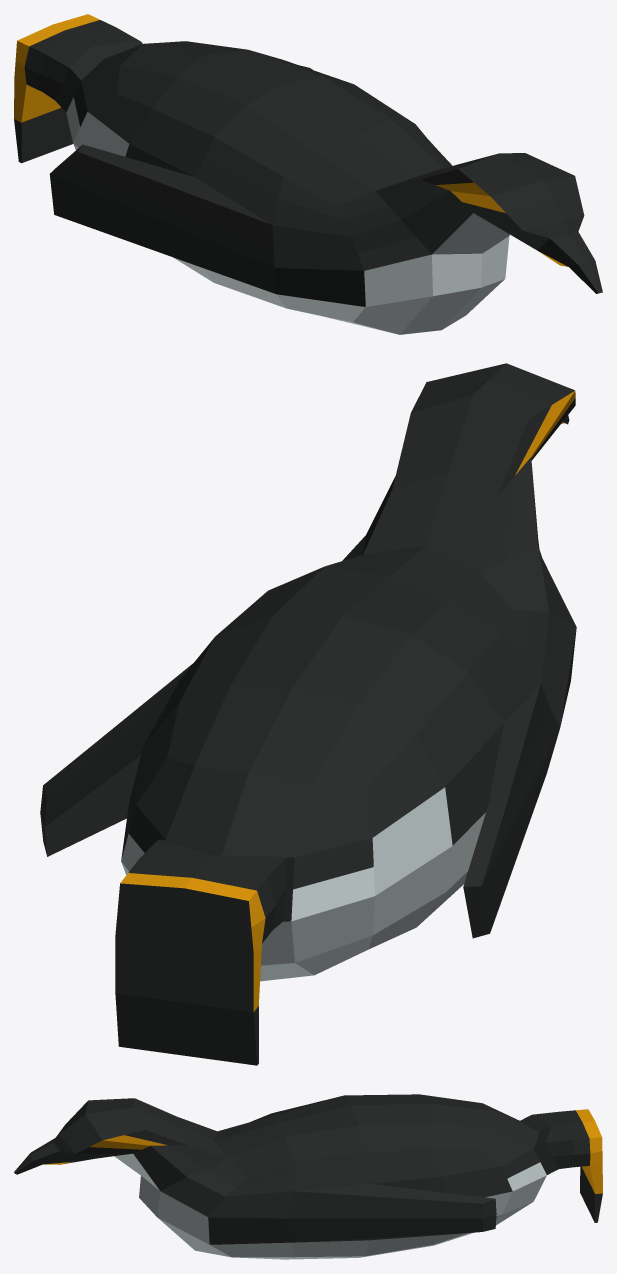
File: downpenguin.gltf
The picture shows the model from 3 angles, top to bottom: view 1: azimuth 30°, elevation 25°; view 2: azimuth 150°, elevation 25°; view 3: azimuth 270°, elevation 25°; orthographic projection. The views are drawn at different scales.
Visible parts, largest first — view 1: Cube.022; view 2: Cube.022; view 3: Cube.022.
Part boxes in pixels (x1,y1,x2,y2): Cube.022: (14, 14, 602, 334); Cube.022: (40, 363, 576, 1065); Cube.022: (14, 1094, 602, 1259).
Bounding box in the file's own units: 0.8426 × 0.6337 × 2.09.
